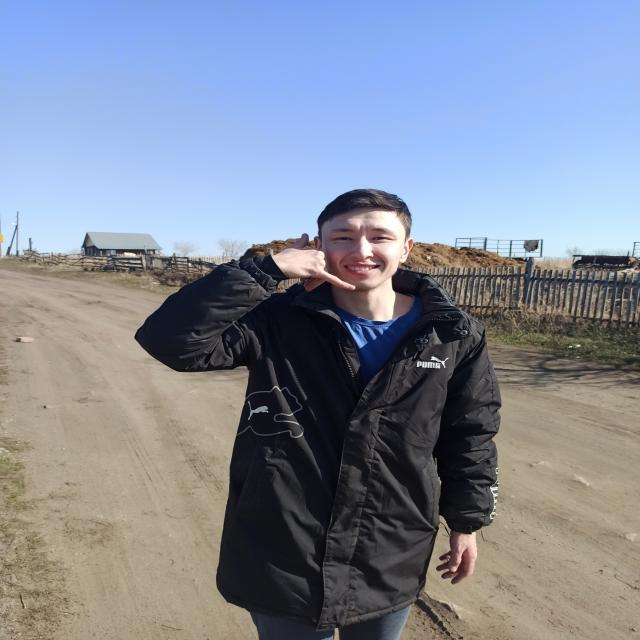call: (273, 232, 355, 292)
